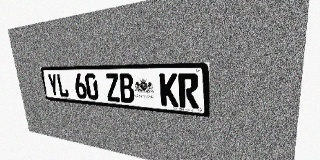0: (84, 73, 99, 100)
6: (73, 73, 87, 99)
B: (118, 73, 135, 103)
K: (159, 73, 179, 107)
L: (56, 73, 69, 98)
R: (178, 73, 199, 109)
Y: (47, 73, 60, 97)
Z: (105, 73, 121, 102)
